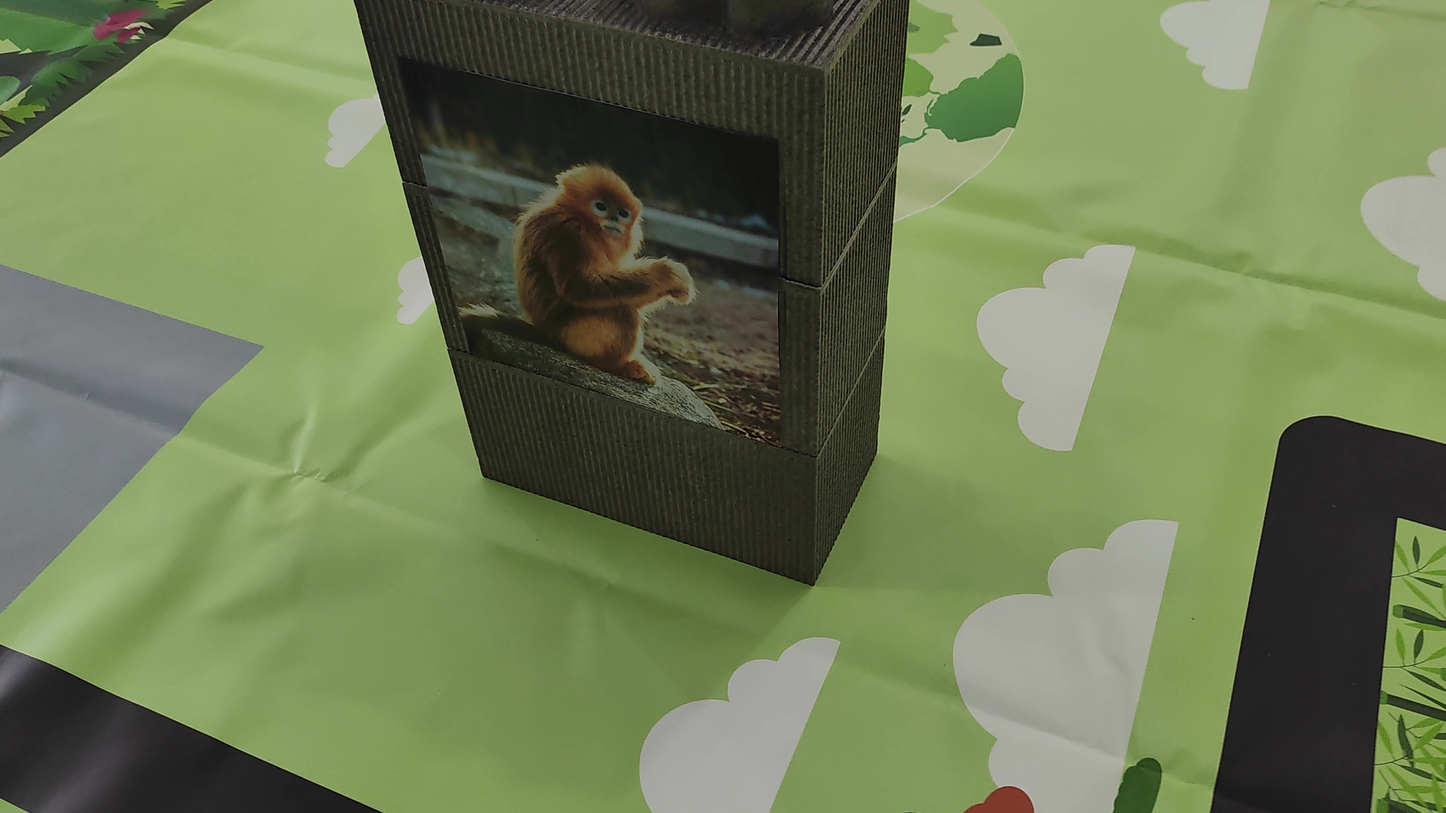monkey: (442, 97, 715, 396)
